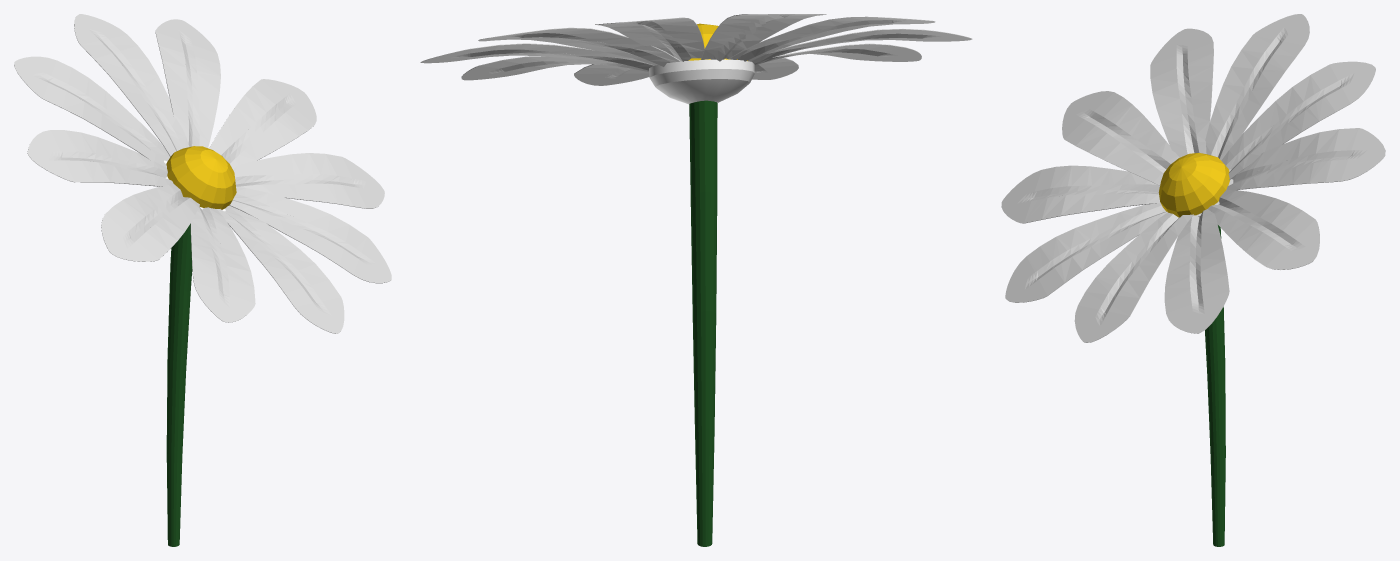
File: flower_01.obj
3 renders of one model, left to right at view 1: azimuth 30°, elevation 25°; view 2: azimuth 150°, elevation 25°; view 3: azimuth 270°, elevation 25°, orthographic. The views are drawn at different scales.
Parts seen in each view (by area): view 1: Line30, Line23, Line24, Line26, Line25, Line29, Stengel_01, Line22, Line28, Line27, Line21, Sphere03; view 2: Stengel_01, Cylinder05, Line25, Line22, Line26, Line24, Line27, Line21, Line23, Line28, Line30, Line29; view 3: Line22, Line26, Line27, Line28, Line21, Line29, Line25, Line30, Line24, Line23, Stengel_01, Sphere03.
Part boxes in pixels (x1=…): Line30: x1=229, y1=186, x2=391, y2=283; Line23: x1=233, y1=153, x2=384, y2=208; Line24: x1=209, y1=79, x2=316, y2=169; Line26: x1=74, y1=14, x2=189, y2=156; Line25: x1=155, y1=19, x2=220, y2=147; Line29: x1=217, y1=205, x2=344, y2=333; Stengel_01: x1=166, y1=224, x2=192, y2=546; Line22: x1=14, y1=56, x2=169, y2=167; Line28: x1=190, y1=206, x2=255, y2=322; Line27: x1=27, y1=130, x2=173, y2=186; Line21: x1=101, y1=184, x2=199, y2=261; Sphere03: x1=166, y1=146, x2=236, y2=209; Stengel_01: x1=689, y1=100, x2=717, y2=546; Cylinder05: x1=649, y1=59, x2=754, y2=104; Line25: x1=478, y1=27, x2=680, y2=66; Line22: x1=701, y1=14, x2=826, y2=61; Line26: x1=595, y1=17, x2=704, y2=61; Line24: x1=420, y1=43, x2=654, y2=70; Line27: x1=728, y1=16, x2=935, y2=61; Line21: x1=750, y1=29, x2=972, y2=63; Line23: x1=461, y1=56, x2=648, y2=80; Line28: x1=754, y1=43, x2=921, y2=65; Line30: x1=574, y1=64, x2=649, y2=85; Line29: x1=752, y1=58, x2=798, y2=79; Line22: x1=1205, y1=14, x2=1309, y2=160; Line26: x1=1221, y1=61, x2=1375, y2=179; Line27: x1=1150, y1=28, x2=1213, y2=157; Line28: x1=1001, y1=165, x2=1160, y2=223; Line21: x1=1062, y1=91, x2=1179, y2=185; Line29: x1=1005, y1=203, x2=1167, y2=302; Line25: x1=1226, y1=128, x2=1385, y2=190; Line30: x1=1074, y1=212, x2=1193, y2=342; Line24: x1=1208, y1=190, x2=1319, y2=269; Line23: x1=1164, y1=209, x2=1229, y2=333; Stengel_01: x1=1205, y1=225, x2=1225, y2=546; Sphere03: x1=1158, y1=153, x2=1229, y2=217.
Bounding box in the file's own units: 144 × 182 × 134.
